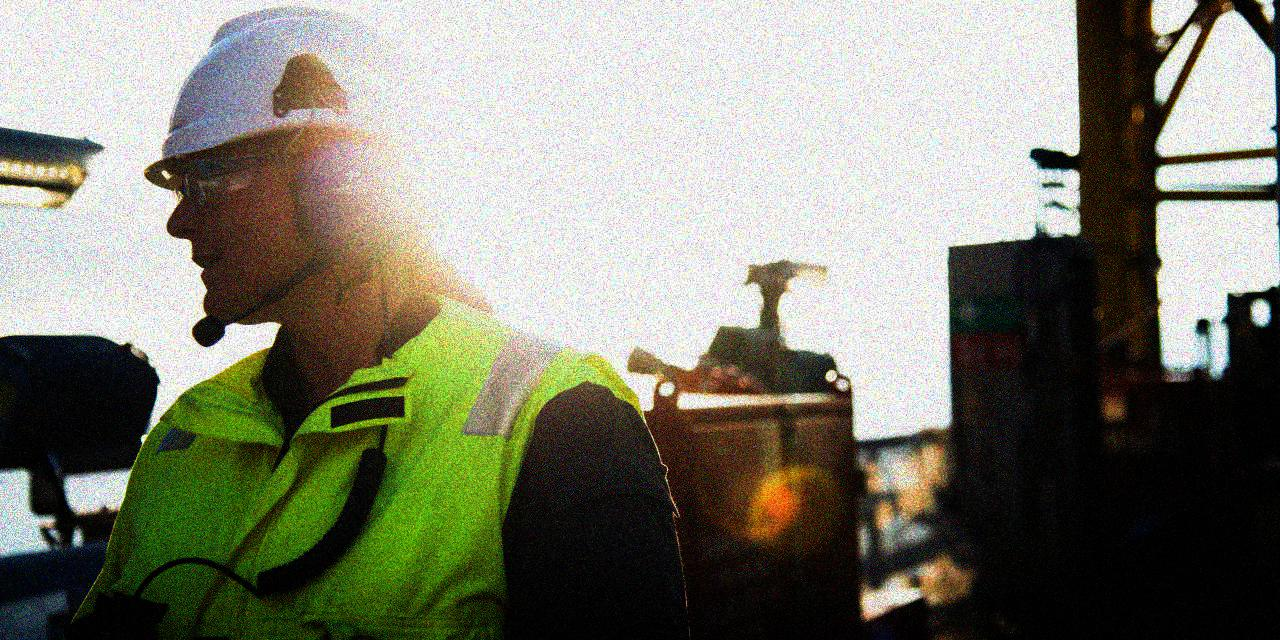helmet: (148, 4, 430, 327)
